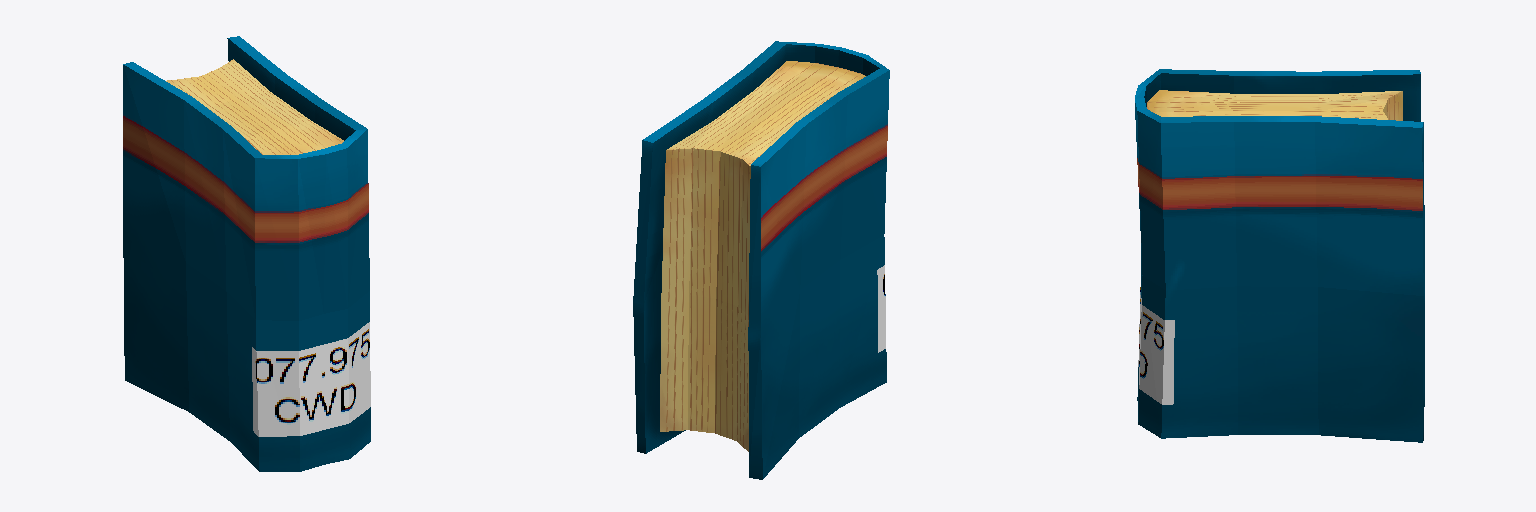
3 renders of one model, left to right at view 1: azimuth 30°, elevation 25°; view 2: azimuth 150°, elevation 25°; view 3: azimuth 270°, elevation 25°, orthographic.
Visible parts, largest first — view 1: Cover.001, Pages.002; view 2: Cover.001, Pages.002; view 3: Cover.001, Pages.002.
Boxes of the visible parts, x1=… form: Cover.001: x1=123, y1=36, x2=370, y2=471; Pages.002: x1=166, y1=59, x2=343, y2=154; Cover.001: x1=633, y1=41, x2=889, y2=479; Pages.002: x1=660, y1=61, x2=865, y2=451; Cover.001: x1=1135, y1=69, x2=1424, y2=442; Pages.002: x1=1147, y1=90, x2=1402, y2=120.
Size of the model in its own units: 2.93 by 7.05 by 5.85.
2 materials, 2 textured.